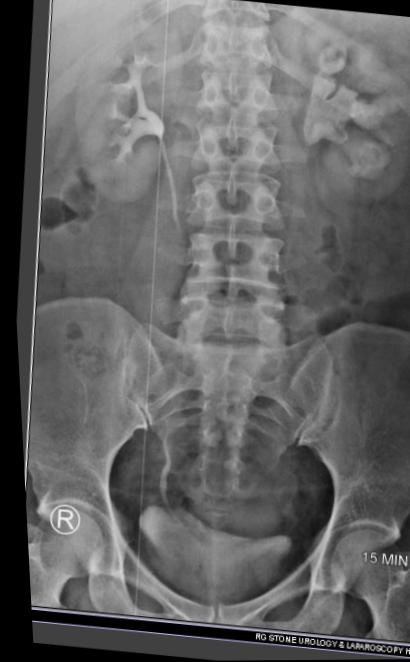bladder: (103, 504, 295, 640)
left kidney: (282, 7, 409, 205)
right kidney: (41, 18, 185, 221)
vertebrae: (186, 59, 276, 118)
